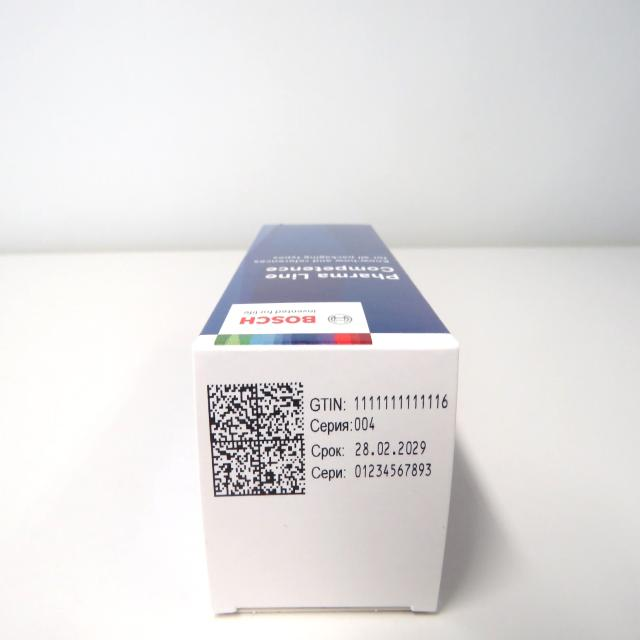datamatrix: (202, 377, 306, 500)
